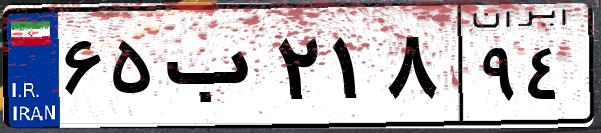1: (330, 28, 385, 110)
2: (270, 28, 330, 110)
4: (525, 38, 570, 115)
5: (110, 28, 158, 98)
6: (57, 26, 110, 100)
8: (385, 28, 445, 110)
9: (475, 38, 525, 113)
ب: (158, 20, 270, 120)
